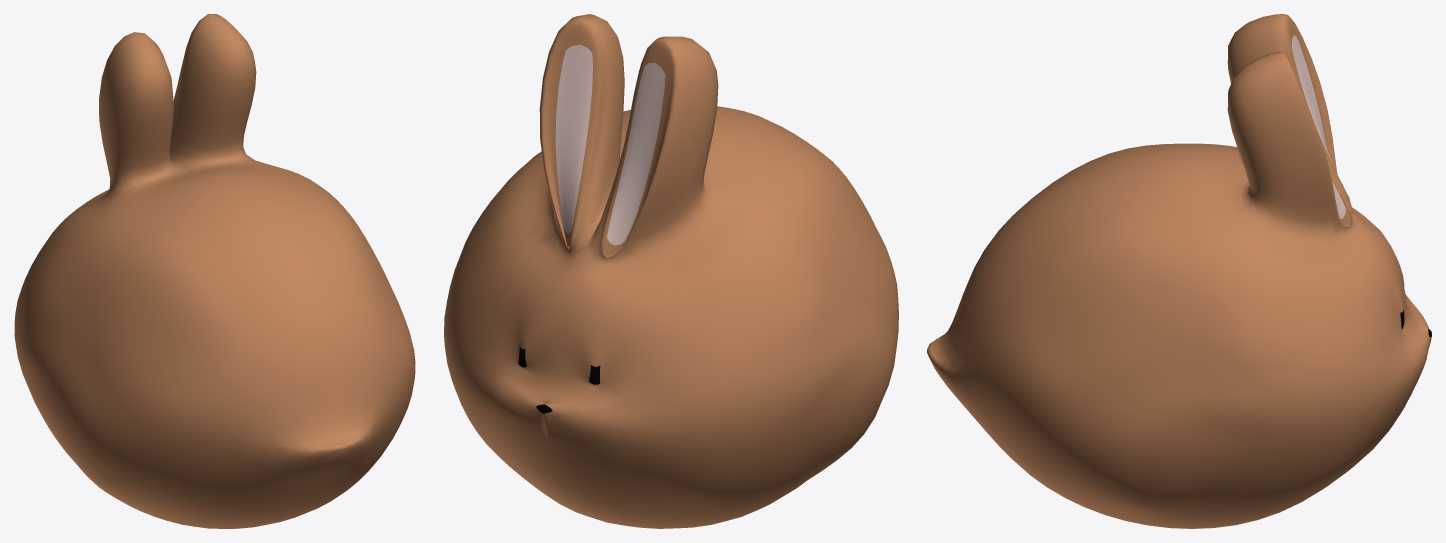
File: prey_22.glb
The picture shows the model from 3 angles, left to right: view 1: azimuth 30°, elevation 25°; view 2: azimuth 150°, elevation 25°; view 3: azimuth 270°, elevation 25°; orthographic projection. The views are drawn at different scales.
Parts seen in each view (by area): view 1: Cube; view 2: Cube; view 3: Cube.
Part boxes in pixels (x1,y1,x2,y2): Cube: [14, 14, 415, 528]; Cube: [444, 14, 898, 528]; Cube: [927, 14, 1431, 528].
Size of the model in its own units: 4.03 by 5.34 by 5.15.
